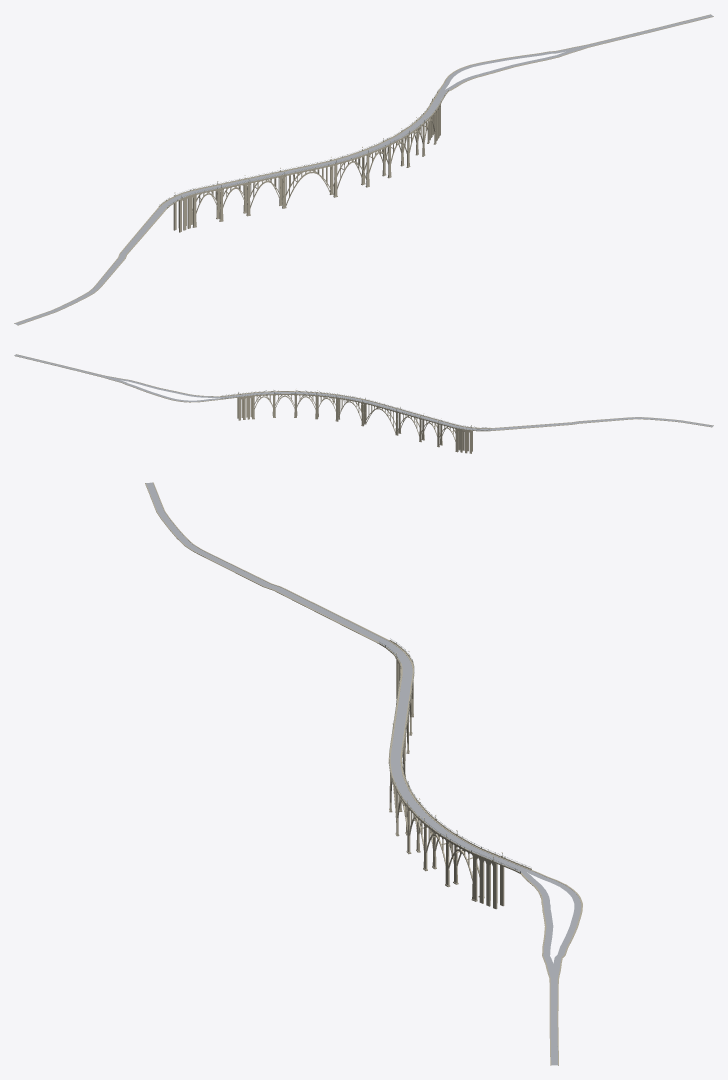
File: colorado-street-bridge-far.glb
3 views of the same model, one above another, from view 1: azimuth 30°, elevation 25°; view 2: azimuth 150°, elevation 25°; view 3: azimuth 270°, elevation 25° (orthographic). The views are drawn at different scales.
Visible parts, largest first — view 1: colorado-street-bridge-0-substructure, colorado-street-bridge-0-asphalt, colorado-street-bridge-0-concrete; view 2: colorado-street-bridge-0-substructure, colorado-street-bridge-0-asphalt, colorado-street-bridge-0-concrete, colorado-street-bridge-0-iron; view 3: colorado-street-bridge-0-asphalt, colorado-street-bridge-0-substructure, colorado-street-bridge-0-concrete.
Part boxes in pixels (x1,y1,x2,y2): colorado-street-bridge-0-substructure: (173, 104, 440, 232); colorado-street-bridge-0-asphalt: (15, 14, 712, 324); colorado-street-bridge-0-concrete: (14, 14, 713, 325); colorado-street-bridge-0-substructure: (237, 395, 472, 453); colorado-street-bridge-0-asphalt: (14, 354, 713, 430); colorado-street-bridge-0-concrete: (14, 354, 713, 431); colorado-street-bridge-0-iron: (221, 390, 491, 430); colorado-street-bridge-0-asphalt: (146, 482, 581, 1065); colorado-street-bridge-0-substructure: (389, 659, 504, 909); colorado-street-bridge-0-concrete: (145, 482, 582, 1065).
Size of the model in its own units: 1197 by 50.99 by 380.
